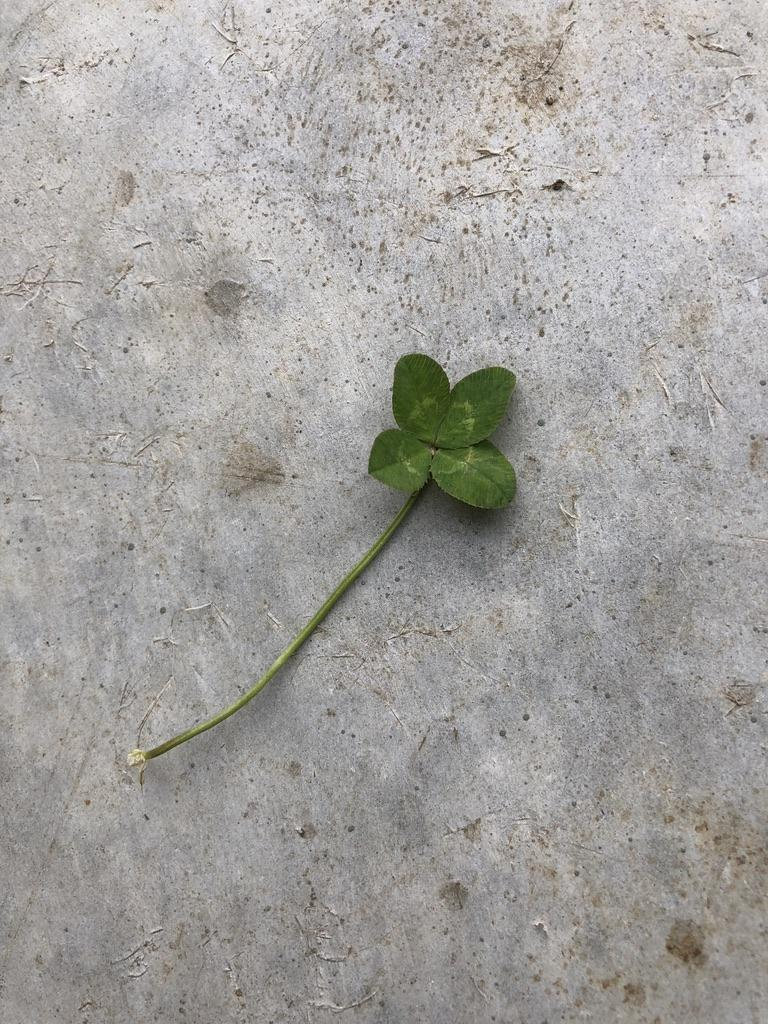4-Leaf-Clovers: (264, 329, 382, 535)
